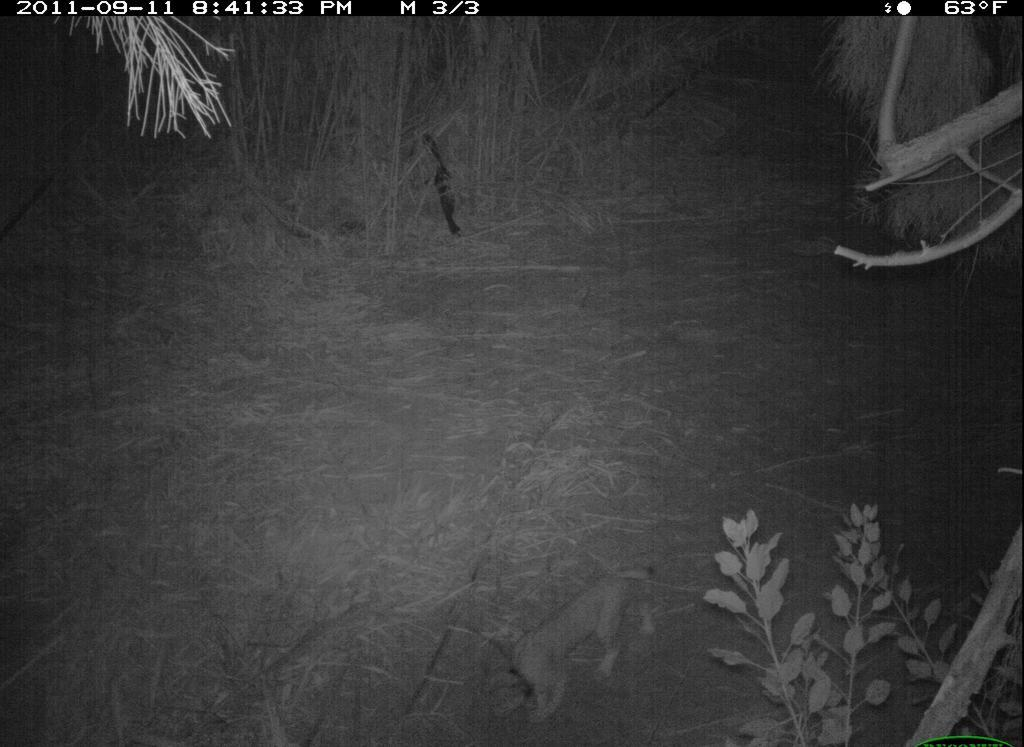bobcat: (483, 564, 660, 725)
